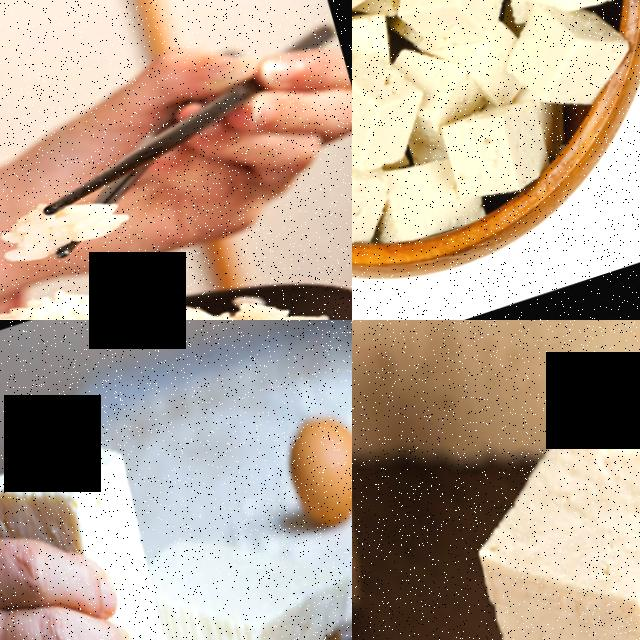egg: (266, 399, 352, 540)
tofu: (438, 380, 640, 640), (493, 0, 637, 118), (436, 91, 561, 210), (352, 39, 443, 180), (382, 0, 526, 63)
white rice: (0, 207, 352, 320)
